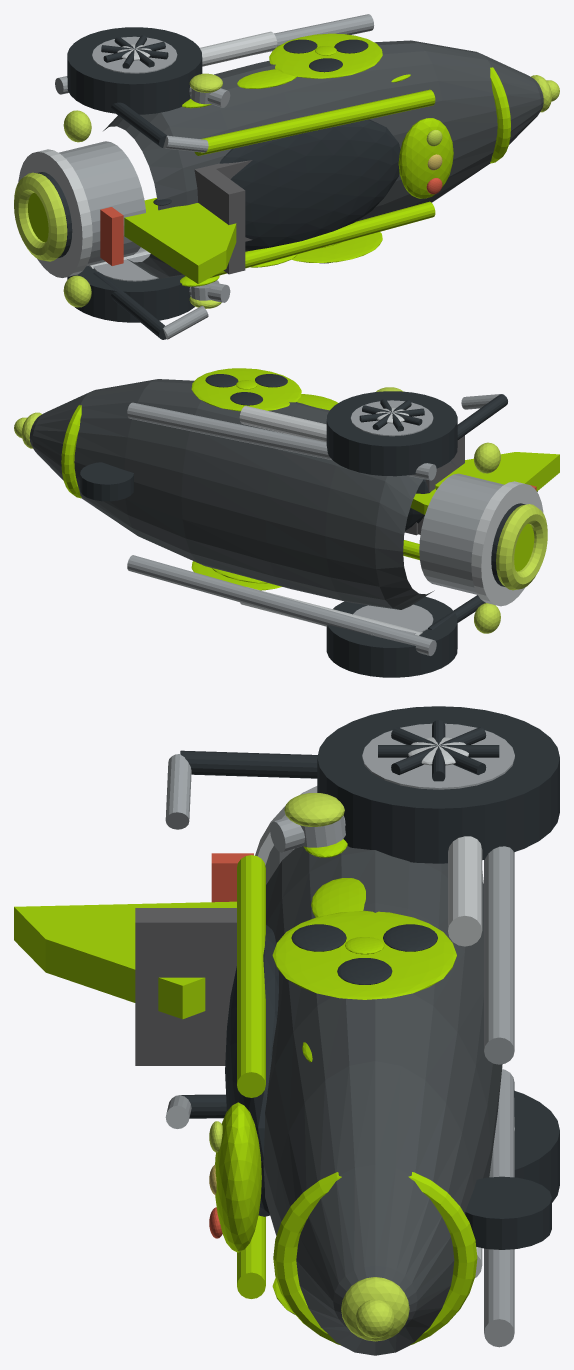
File: toxic-turbo.glb
3 renders of one model, top to bottom at view 1: azimuth 30°, elevation 25°; view 2: azimuth 150°, elevation 25°; view 3: azimuth 270°, elevation 25°, orthographic. The views are drawn at different scales.
Visible parts, largest first — view 1: 01_black_streamlined_fuselage, 08_cockpit_well, 14_rear_tire_1, 25_dorsal_tail_fin, 27_jet_body, 11_cockpit_rim_1, 14_rear_tire_-1, 28_jet_rim, 31_jet_glow_ring, 11_cockpit_rim_-1, 12_control_panel, 05_bio_disc_1 (+20 smaller); view 2: 01_black_streamlined_fuselage, 14_rear_tire_1, 27_jet_body, 14_rear_tire_-1, 18_lower_pipe_-1, 18_lower_pipe_1, 28_jet_rim, 31_jet_glow_ring, 05_bio_disc_1, 25_dorsal_tail_fin, 37_front_underwheel, 19_upper_pipe_1 (+14 smaller); view 3: 01_black_streamlined_fuselage, 14_rear_tire_1, 10_seat_back, 25_dorsal_tail_fin, 05_bio_disc_1, 03_neon_nose_collar, 11_cockpit_rim_1, 18_lower_pipe_1, 12_control_panel, 37_front_underwheel, 18_lower_pipe_-1, 15_rear_wheel_hub_1 (+17 smaller).
Part boxes in pixels (bbox=[...]): 01_black_streamlined_fuselage: bbox=[103, 40, 543, 278]; 08_cockpit_well: bbox=[219, 119, 400, 250]; 14_rear_tire_1: bbox=[67, 27, 202, 114]; 25_dorsal_tail_fin: bbox=[124, 203, 236, 283]; 27_jet_body: bbox=[59, 141, 145, 266]; 11_cockpit_rim_1: bbox=[194, 89, 435, 155]; 14_rear_tire_-1: bbox=[67, 266, 195, 322]; 28_jet_rim: bbox=[18, 149, 92, 277]; 31_jet_glow_ring: bbox=[14, 172, 67, 261]; 11_cockpit_rim_-1: bbox=[209, 201, 435, 278]; 12_control_panel: bbox=[398, 118, 453, 198]; 05_bio_disc_1: bbox=[269, 33, 382, 78]; 01_black_streamlined_fuselage: bbox=[29, 379, 457, 609]; 14_rear_tire_1: bbox=[326, 391, 457, 476]; 27_jet_body: bbox=[419, 473, 504, 594]; 14_rear_tire_-1: bbox=[326, 596, 457, 677]; 18_lower_pipe_-1: bbox=[127, 555, 436, 655]; 18_lower_pipe_1: bbox=[127, 402, 436, 480]; 28_jet_rim: bbox=[471, 481, 543, 606]; 31_jet_glow_ring: bbox=[496, 504, 547, 590]; 05_bio_disc_1: bbox=[191, 368, 301, 411]; 25_dorsal_tail_fin: bbox=[435, 452, 559, 491]; 37_front_underwheel: bbox=[80, 462, 133, 501]; 19_upper_pipe_1: bbox=[239, 406, 326, 442]; 01_black_streamlined_fuselage: bbox=[263, 846, 502, 1355]; 14_rear_tire_1: bbox=[317, 706, 559, 863]; 10_seat_back: bbox=[135, 908, 236, 1065]; 25_dorsal_tail_fin: bbox=[14, 901, 236, 1019]; 05_bio_disc_1: bbox=[272, 910, 456, 999]; 03_neon_nose_collar: bbox=[273, 1172, 477, 1345]; 11_cockpit_rim_1: bbox=[237, 855, 265, 1097]; 18_lower_pipe_1: bbox=[484, 846, 514, 1064]; 12_control_panel: bbox=[215, 1102, 261, 1252]; 37_front_underwheel: bbox=[465, 1176, 551, 1249]; 18_lower_pipe_-1: bbox=[484, 1069, 514, 1347]; 15_rear_wheel_hub_1: bbox=[362, 723, 514, 789].
Bounding box in the file's own units: 4.15 × 1.89 × 2.07.
